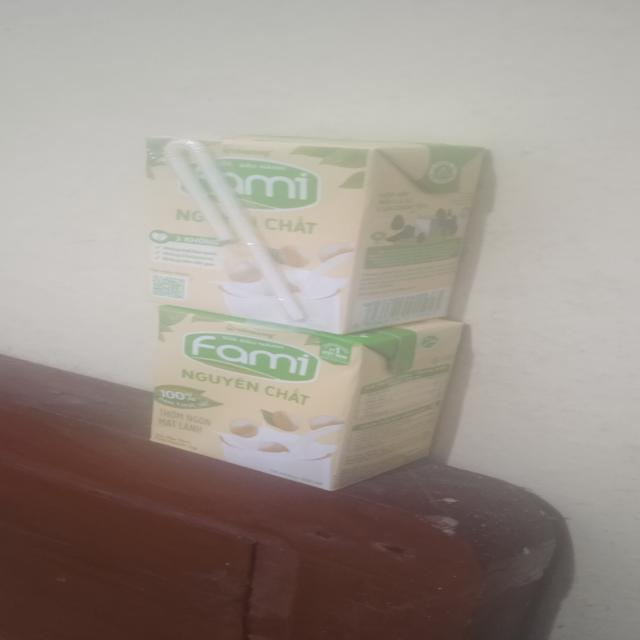Fami: (148, 135, 483, 336), (149, 308, 464, 491)
